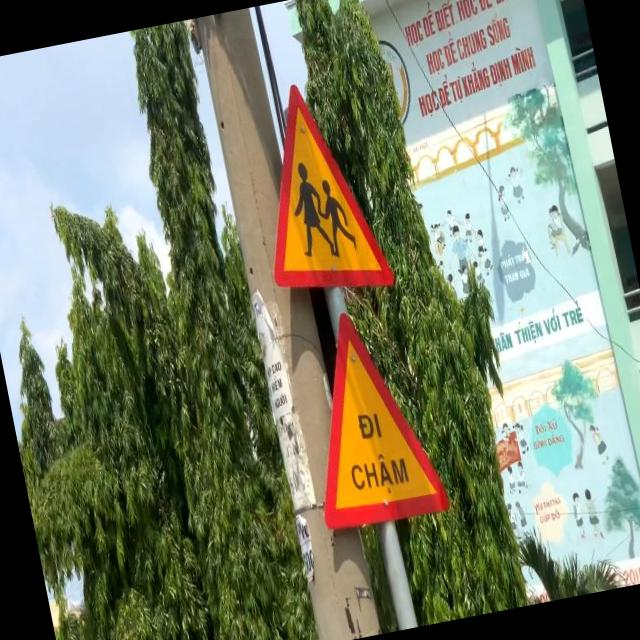W-225: (239, 73, 396, 310)
W-245a: (288, 298, 451, 534)
